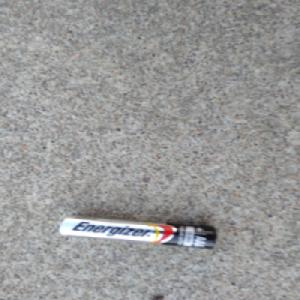Battery: (55, 214, 219, 251)
